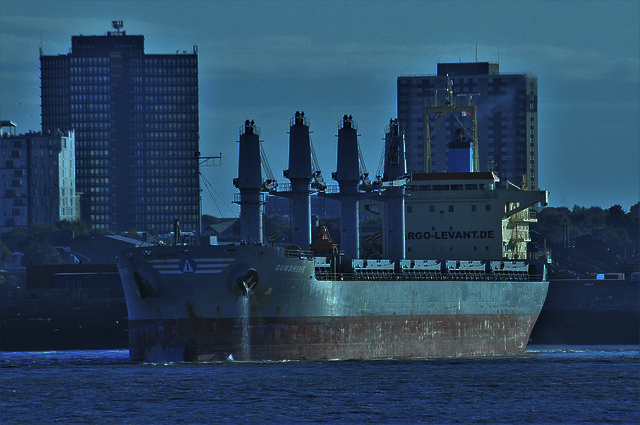bulk carrier: (114, 82, 549, 354)
